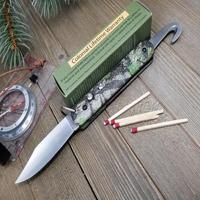knife: (10, 21, 184, 186)
